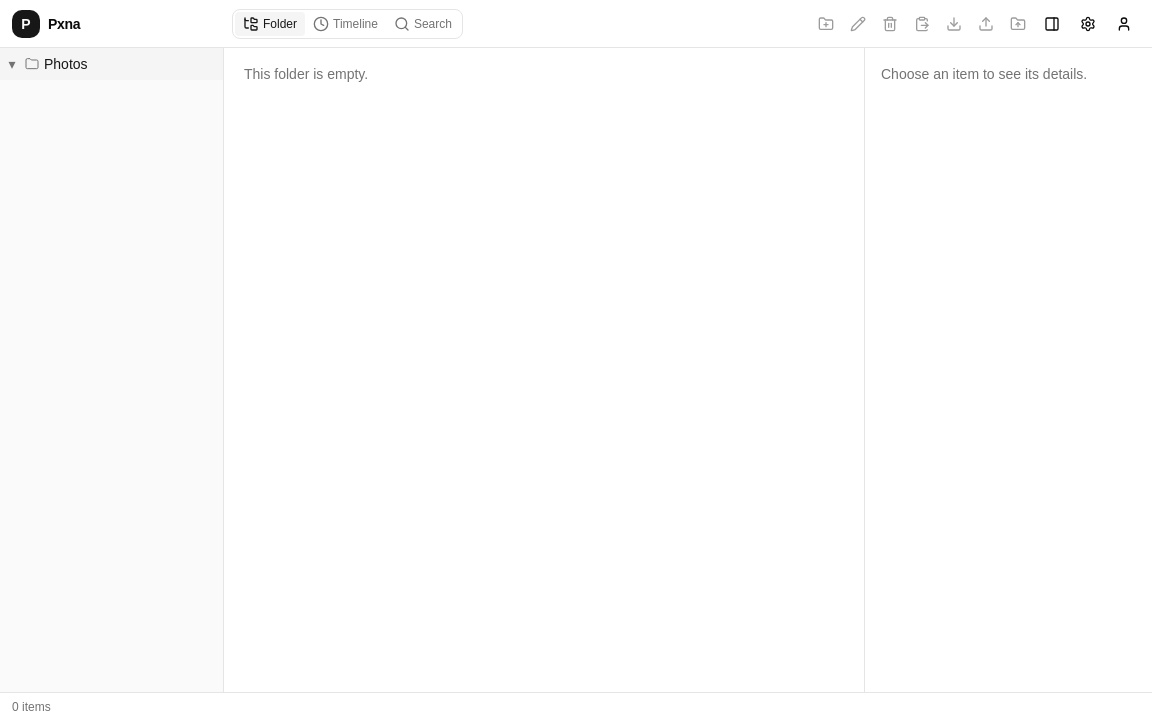
Scenario: 広い画面では、内容の右に情報パネルを開いた状態で出し、ボタンで畳み、リロードの後も畳んだままにする
Check: the element named "Info panel" reads "Choose an item to see its details.", box top-left (881, 66), bottom-right (1087, 82)
What coordinates should you click on to do the following:
click the button named "Info panel"
I would click on:
 (1052, 24)
Its box is top-left (1036, 8), bottom-right (1068, 40).
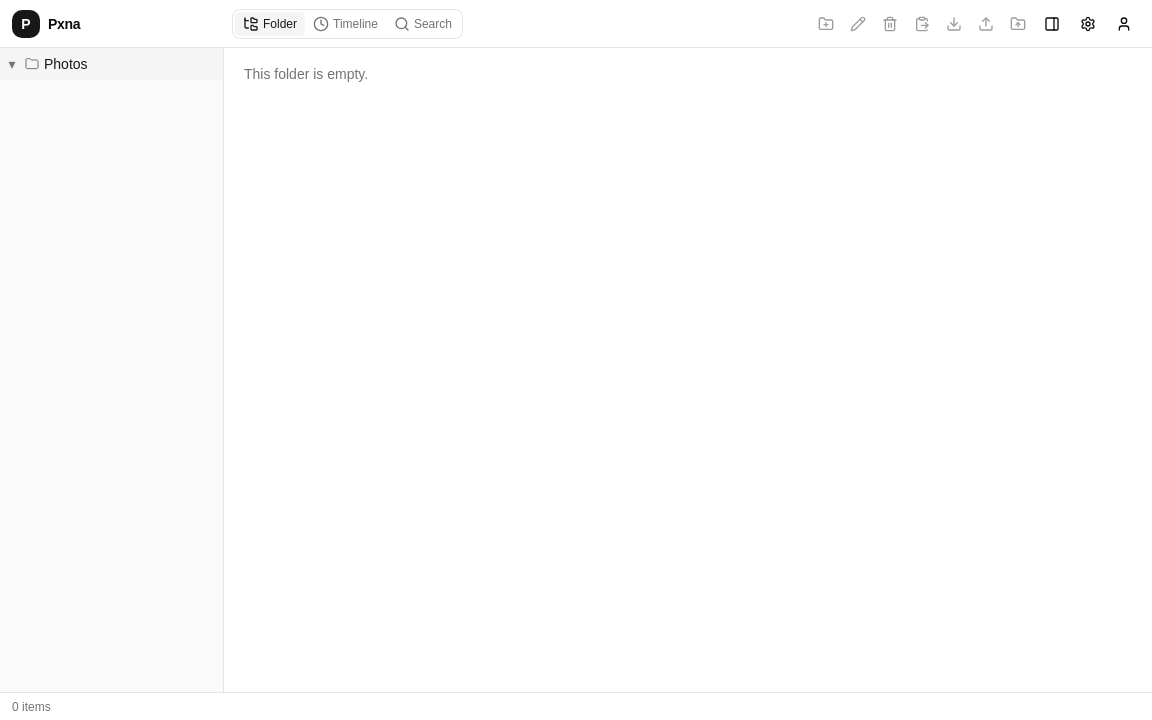
What coordinates should you click on to do the following:
click the button named "Info panel"
I would click on:
 (1052, 24)
Its box is top-left (1036, 8), bottom-right (1068, 40).
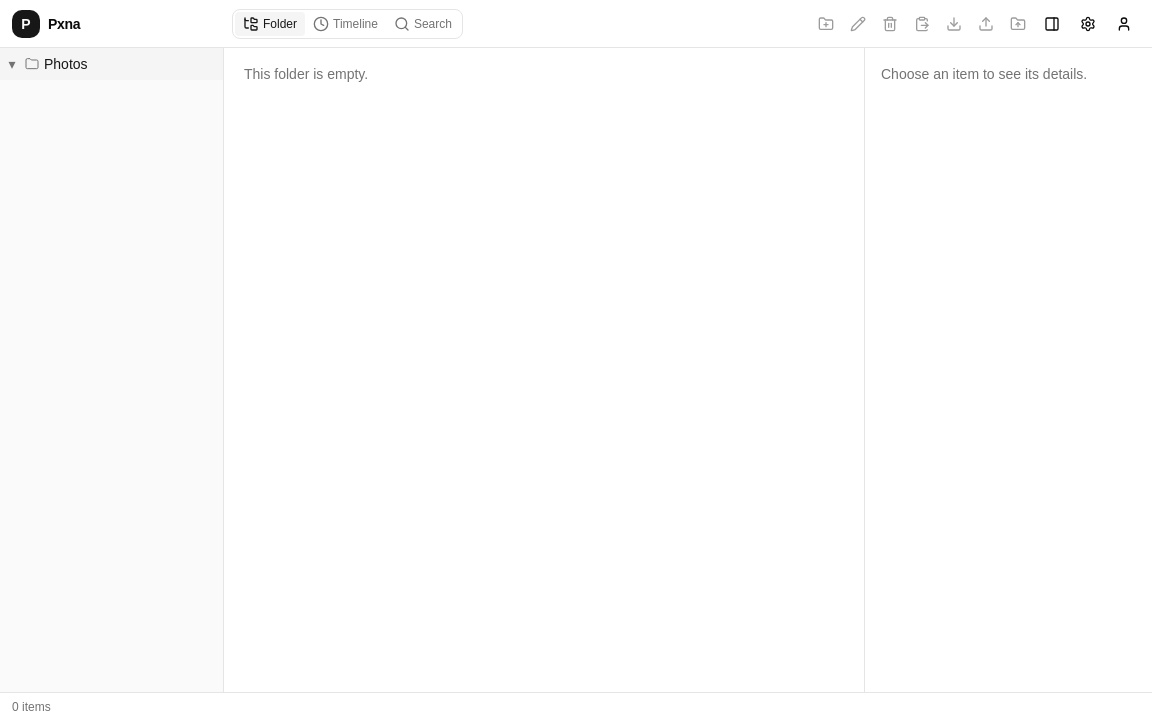
Check: the element named "Info panel" is shown, box top-left (864, 48), bottom-right (1151, 692)
